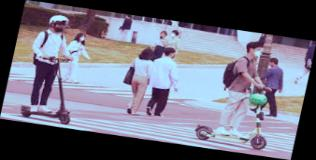helmet: (16, 11, 95, 127)
nonhelmet: (191, 34, 289, 151)
